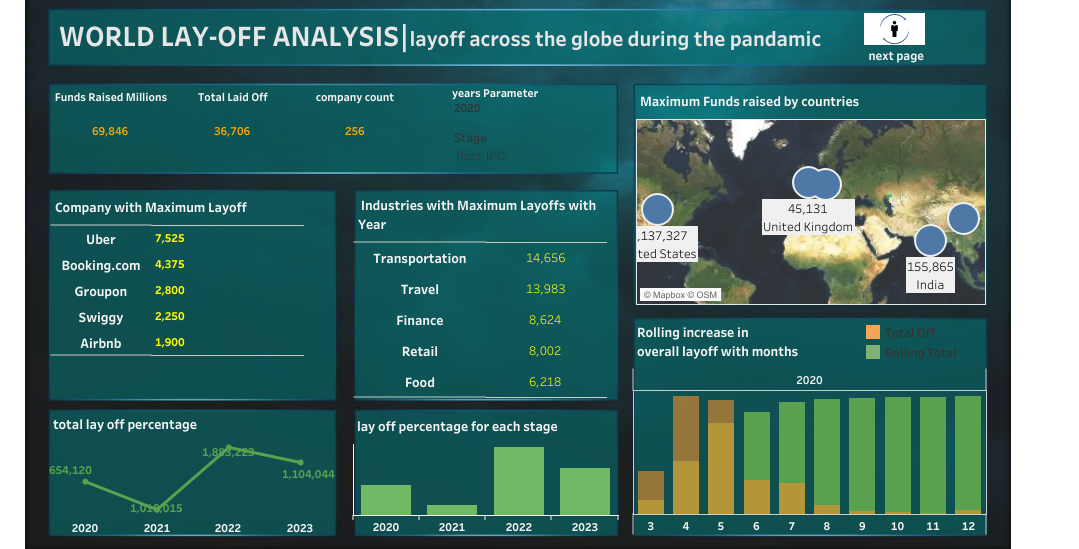

What the dashboard file says about the page in this screenshot:
{"tool":"tableau","page":{"name":"dashboard1","canvas":[1080,550],"ordinal":0},"visuals":[{"type":"dashboard-object","box":[864,12,61,34]},{"type":"text","box":[56,14,802,42]},{"type":"text","box":[866,45,64,19]},{"type":"worksheet","title":"kpy","mark":"Automatic","box":[50,84,417,90]},{"type":"parameter","param":"[Parameters].[years Parameter]","box":[452,84,160,42]},{"type":"worksheet","title":"Sheet 2","mark":"Automatic","box":[636,85,350,220]},{"type":"filter","title":"lay off percentage for each stage ","param":"[federated.1ryh55y0i9xtkl17nzmnn0ai57m3].[none:stage:nk]","box":[454,127,160,44]},{"type":"worksheet","title":"Sheet 3","mark":"Automatic","rows":["industry"],"box":[354,189,264,212]},{"type":"worksheet","title":"Sheet 1","mark":"Automatic","rows":["Company"],"box":[51,191,284,209]},{"type":"worksheet","title":"Sheet 4","mark":"Bar","rows":["rolling_total","total_off"],"box":[633,316,354,219]},{"type":"legend","title":"Sheet 4","param":"[federated.10o34b007a7qax18npn1x1mghcr8].[:Measure Names]","box":[863,322,110,56]},{"type":"worksheet","title":"total lay off percentage","mark":"Line","rows":["total_off"],"box":[49,408,287,128]},{"type":"worksheet","title":"lay off percentage for each stage ","mark":"Automatic","rows":["percentage_laid_off"],"cols":["date - Split 1"],"box":[353,410,265,125]}]}

Visuals, with their boxes in screenshot pixels (x1, y1, x2, y2), scaled from the page's 1080x550 canvas onto the 1079x549 screenshot:
dashboard-object: <box>863,12,924,46</box>
text: <box>56,14,857,56</box>
text: <box>865,45,929,64</box>
"kpy" worksheet: <box>50,84,467,174</box>
parameter: <box>452,84,611,126</box>
"Sheet 2" worksheet: <box>635,85,985,304</box>
"lay off percentage for each stage " filter: <box>454,127,613,171</box>
"Sheet 3" worksheet: <box>354,189,617,400</box>
"Sheet 1" worksheet: <box>51,191,335,399</box>
"Sheet 4" worksheet (Bar marks): <box>632,315,986,534</box>
"Sheet 4" legend: <box>862,321,972,377</box>
"total lay off percentage" worksheet (Line marks): <box>49,407,336,535</box>
"lay off percentage for each stage " worksheet: <box>353,409,617,534</box>
